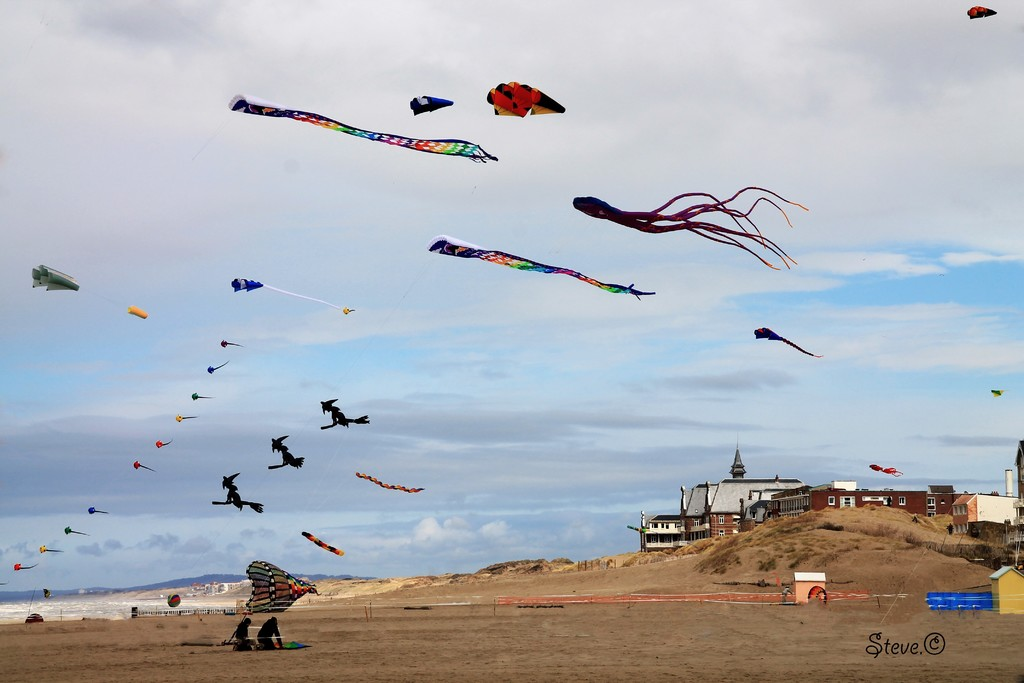kite: (7, 272, 280, 577), (571, 189, 808, 280), (211, 396, 376, 524), (225, 92, 499, 169), (420, 225, 656, 306), (475, 76, 582, 124), (345, 462, 432, 503), (743, 324, 823, 365), (292, 519, 350, 566), (22, 261, 85, 302), (403, 81, 456, 120), (956, 3, 1008, 27), (861, 455, 904, 481), (124, 301, 150, 323), (988, 386, 1012, 406)
